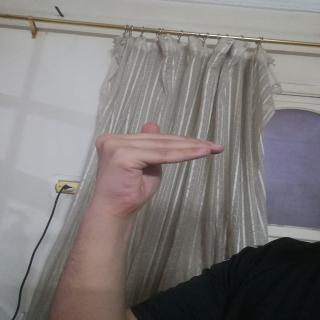KHAA: (86, 116, 236, 207)
